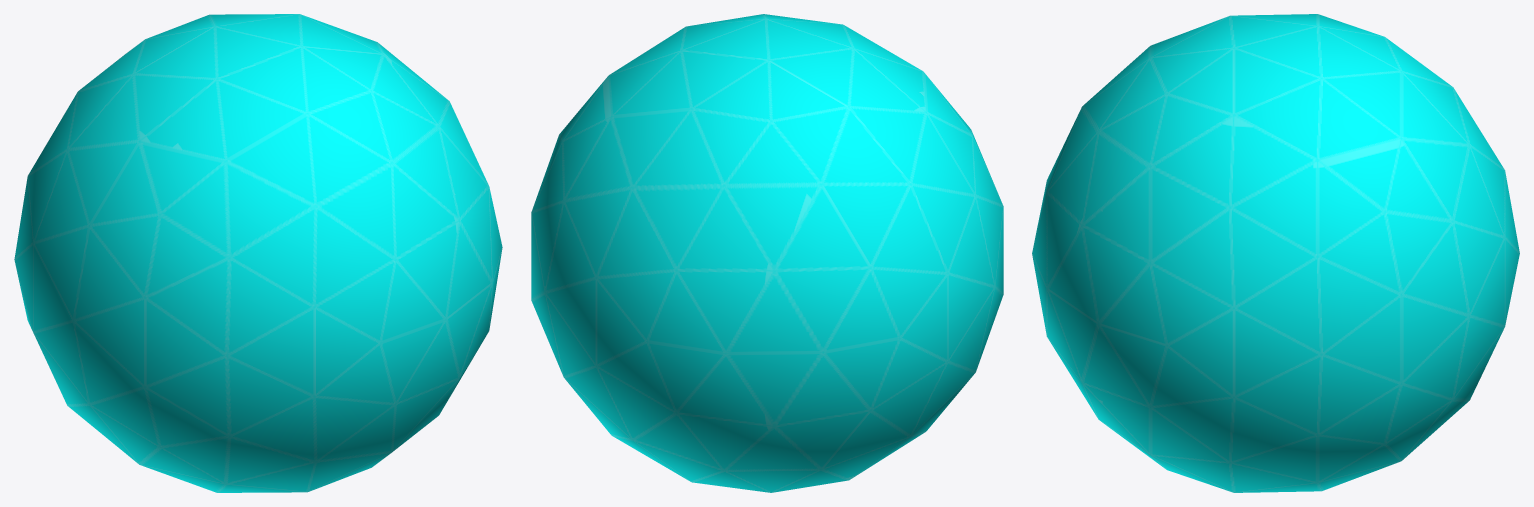
The model's file is tri_circle.fbx.
3 views of the same model, side by side, from view 1: azimuth 30°, elevation 25°; view 2: azimuth 150°, elevation 25°; view 3: azimuth 270°, elevation 25° (orthographic).
Parts seen in each view (by area): view 1: pPlatonic1; view 2: pPlatonic1; view 3: pPlatonic1.
Boxes of the visible parts, box(x1,y1,x2,y2) form: pPlatonic1: box(14, 14, 502, 492); pPlatonic1: box(531, 14, 1003, 492); pPlatonic1: box(1032, 14, 1519, 492).
Bounding box in the file's own units: 2.94 × 2.93 × 2.99.
1 material, 1 textured.
